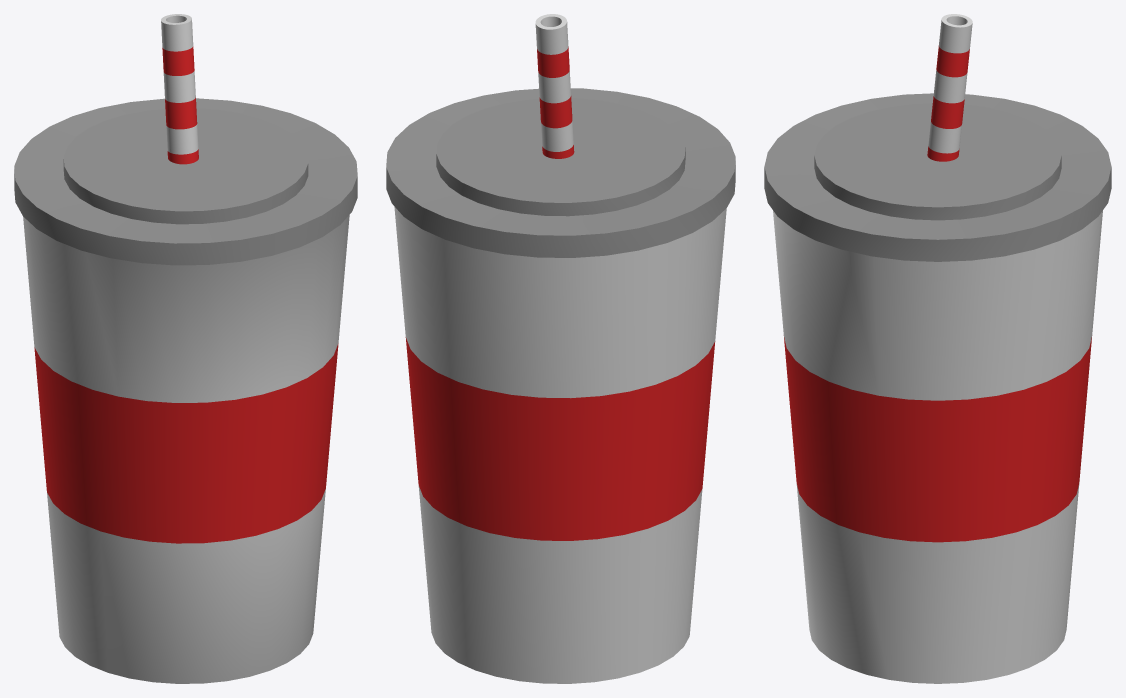
File: Comida_VR11.fbx
3 renders of one model, left to right at view 1: azimuth 30°, elevation 25°; view 2: azimuth 150°, elevation 25°; view 3: azimuth 270°, elevation 25°, orthographic.
Parts seen in each view (by area): view 1: Red-Cola; view 2: Red-Cola; view 3: Red-Cola.
Part boxes in pixels (x1,y1,x2,y2): Red-Cola: (14,14,357,683); Red-Cola: (386,14,735,683); Red-Cola: (764,14,1111,683).
Bounding box in the file's own units: 137 × 265 × 137.
